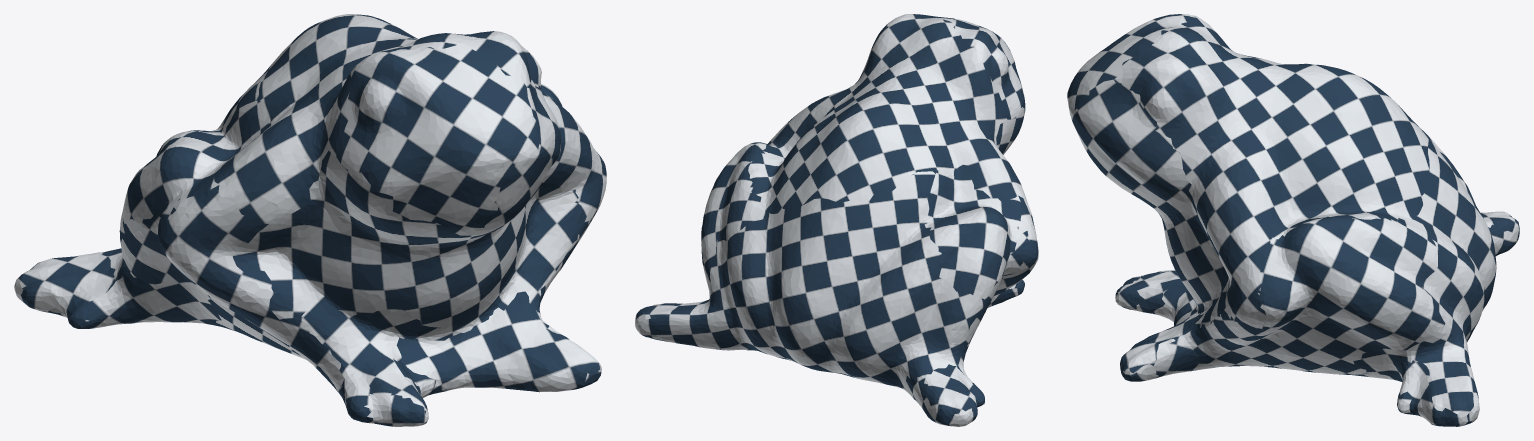
Rendered from packed.obj.
3 views of the same model, side by side, from view 1: azimuth 30°, elevation 25°; view 2: azimuth 150°, elevation 25°; view 3: azimuth 270°, elevation 25° (orthographic). The views are drawn at different scales.
Parts seen in each view (by area): view 1: chart_102, chart_67, chart_96, chart_101, chart_98, chart_9, chart_94, chart_86, chart_85, chart_17, chart_79, chart_95 (+2 smaller); view 2: chart_95, chart_96, chart_9, chart_100, chart_67, chart_85, chart_101, chart_17, chart_89, chart_102; view 3: chart_96, chart_100, chart_102, chart_95, chart_98, chart_67, chart_24, chart_22, chart_94, chart_101, chart_61, chart_89 (+2 smaller).
Boxes of the visible parts, x1,y1,x2,y2 form: chart_102: [232, 80, 588, 340]; chart_67: [336, 43, 539, 235]; chart_96: [214, 14, 606, 224]; chart_101: [157, 185, 446, 426]; chart_98: [396, 291, 600, 392]; chart_9: [123, 100, 270, 224]; chart_94: [301, 296, 440, 421]; chart_86: [71, 265, 221, 328]; chart_85: [18, 252, 115, 326]; chart_17: [121, 198, 180, 284]; chart_79: [364, 387, 427, 426]; chart_95: [99, 80, 260, 280]; chart_95: [635, 171, 988, 389]; chart_96: [748, 14, 1024, 213]; chart_9: [924, 164, 1021, 299]; chart_100: [701, 142, 772, 289]; chart_67: [932, 16, 1025, 119]; chart_85: [924, 364, 984, 421]; chart_101: [644, 195, 1038, 382]; chart_17: [963, 227, 1031, 346]; chart_89: [905, 376, 952, 425]; chart_102: [996, 107, 1025, 154]; chart_96: [1113, 15, 1429, 329]; chart_100: [1184, 216, 1445, 374]; chart_102: [1068, 79, 1229, 331]; chart_95: [1406, 122, 1496, 421]; chart_98: [1120, 290, 1216, 376]; chart_67: [1067, 14, 1195, 113]; chart_24: [1353, 348, 1429, 399]; chart_22: [1397, 375, 1468, 426]; chart_94: [1116, 271, 1184, 309]; chart_101: [1119, 285, 1473, 426]; chart_61: [1129, 279, 1181, 312]; chart_89: [1488, 223, 1519, 255].
Bounding box in the file's own units: 96.01 × 68.78 × 92.42.
Materials: 1 (1 with a texture image).
